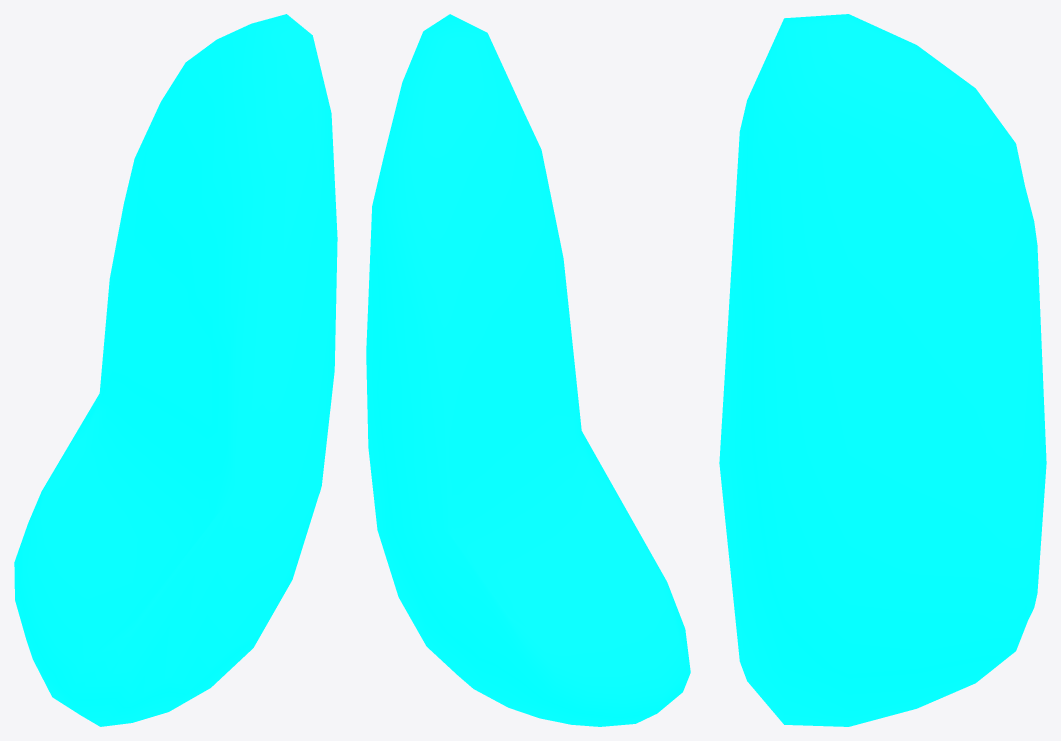
The model's file is Energy5.fbx.
3 views of the same model, side by side, from view 1: azimuth 30°, elevation 25°; view 2: azimuth 150°, elevation 25°; view 3: azimuth 270°, elevation 25° (orthographic). The views are drawn at different scales.
Visible parts, largest first — view 1: Energy5; view 2: Energy5; view 3: Energy5.
Part boxes in pixels (x1,y1,x2,y2): Energy5: (14,14,337,726); Energy5: (366,14,690,726); Energy5: (719,14,1046,726).
Bounding box in the file's own units: 20.53 × 47.69 × 18.12.
